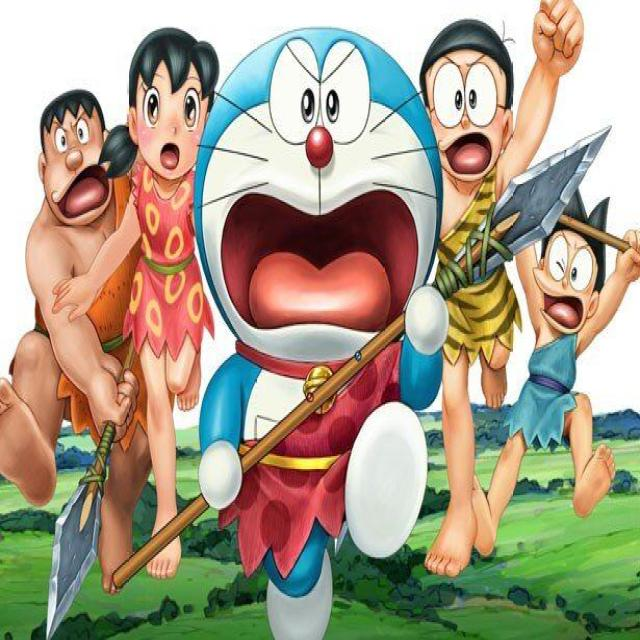doraemon: (183, 7, 459, 446)
jaian: (27, 71, 130, 248)
nobita: (412, 3, 530, 210)
shizuka: (89, 16, 229, 205)
suneo: (519, 163, 618, 350)
